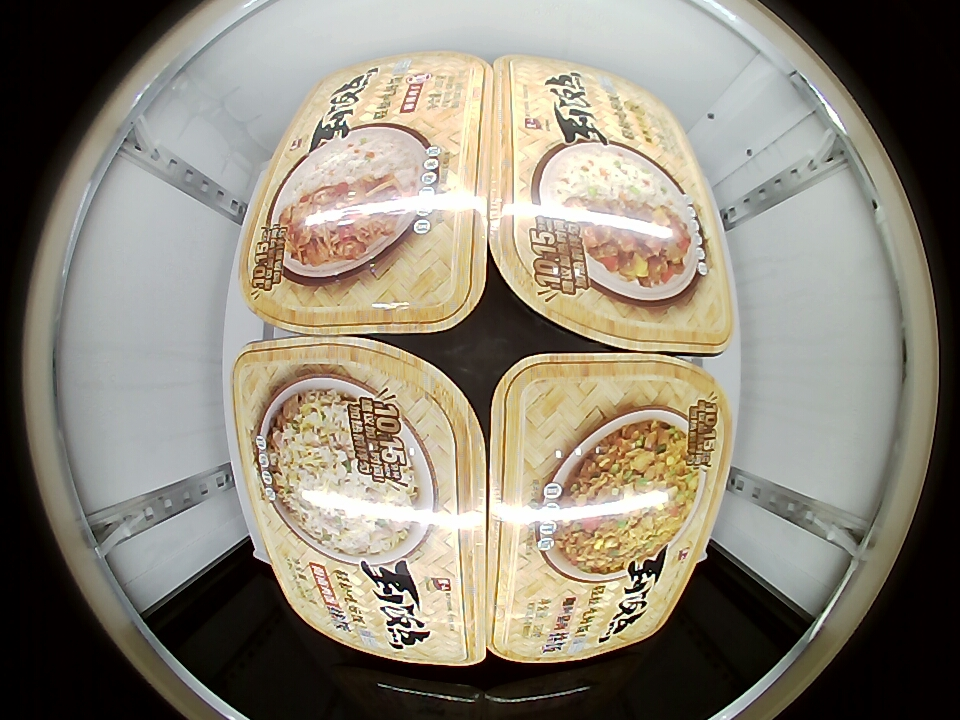daofandian1: (236, 337, 487, 666)
daofandian2: (484, 55, 733, 357)
daofandian3: (486, 349, 731, 660)
daofandian4: (240, 54, 493, 339)
